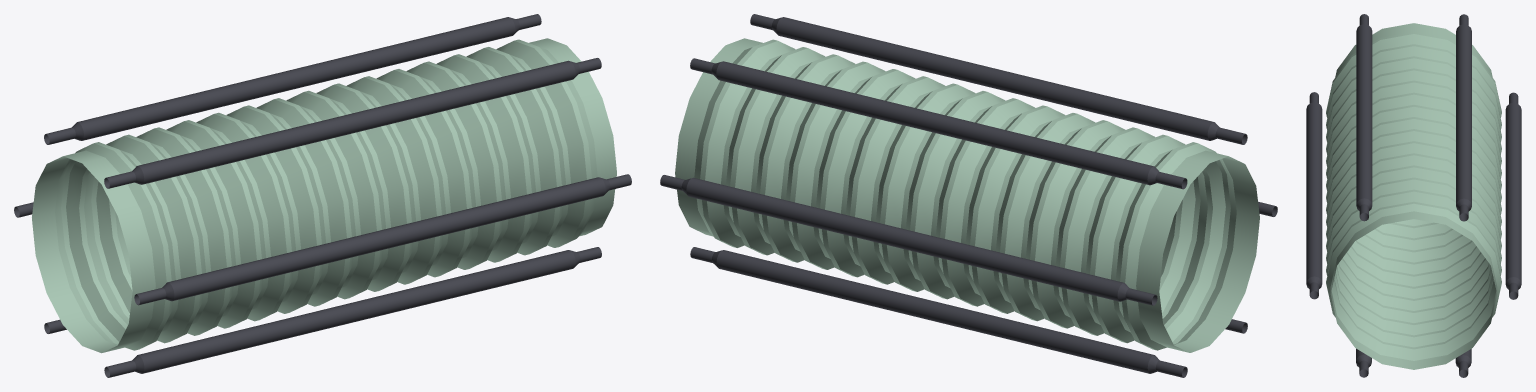
The model's file is PipeLarge_ZigZagZhing_Long.fbx.
3 renders of one model, left to right at view 1: azimuth 30°, elevation 25°; view 2: azimuth 150°, elevation 25°; view 3: azimuth 270°, elevation 25°, orthographic. The views are drawn at different scales.
Parts seen in each view (by area): view 1: PipeLarge_ZigZagZhing_Long.001; view 2: PipeLarge_ZigZagZhing_Long.001; view 3: PipeLarge_ZigZagZhing_Long.001.
Boxes of the visible parts, left/top/right/bottom form: PipeLarge_ZigZagZhing_Long.001: left=14, top=14, right=631, bottom=377; PipeLarge_ZigZagZhing_Long.001: left=660, top=14, right=1277, bottom=377; PipeLarge_ZigZagZhing_Long.001: left=1306, top=14, right=1521, bottom=377.
Size of the model in its own units: 0.567 by 0.2278 by 0.2597.
